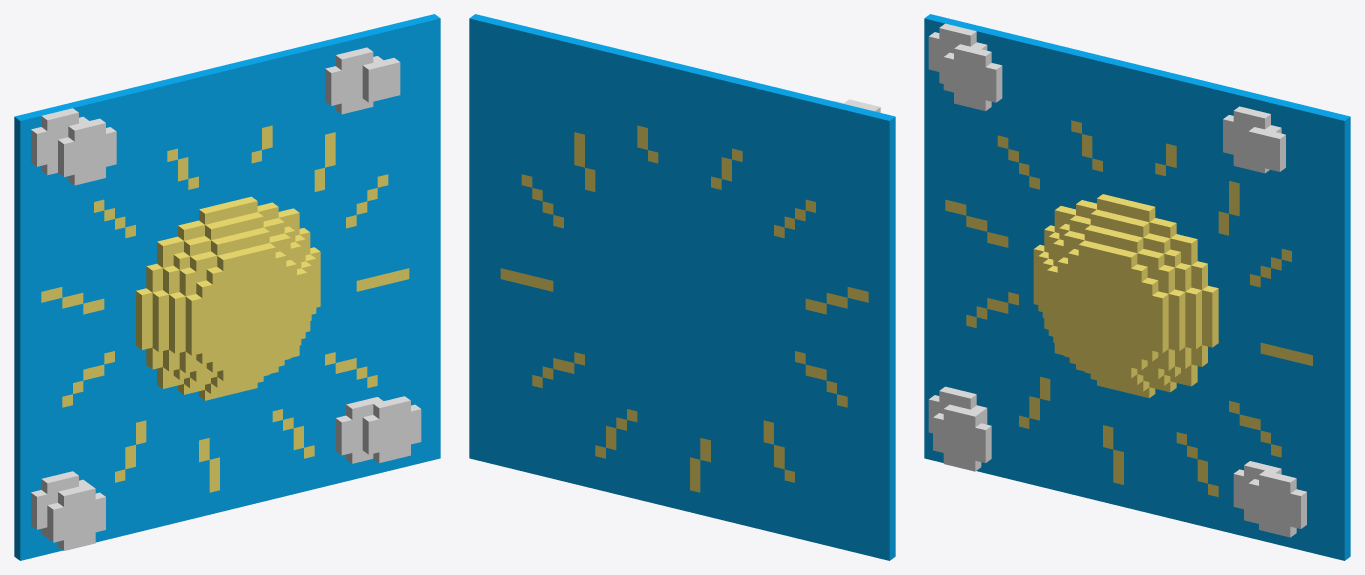
The model's file is sol.obj.
3 views of the same model, side by side, from view 1: azimuth 30°, elevation 25°; view 2: azimuth 150°, elevation 25°; view 3: azimuth 330°, elevation 25° (orthographic).
Size of the model in its own units: 4 by 4 by 0.5.
Materials: 1 (1 with a texture image).
